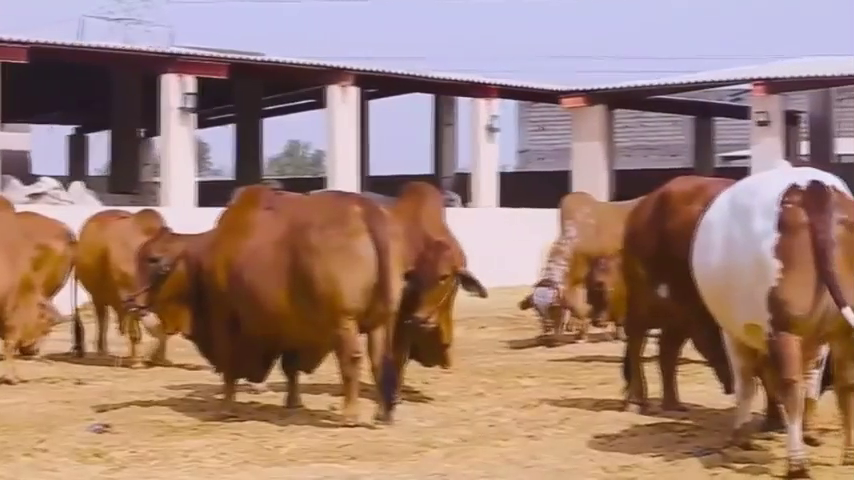bo: (122, 182, 406, 431), (673, 157, 846, 472), (329, 170, 496, 376), (605, 162, 729, 423), (67, 180, 177, 373), (511, 183, 624, 347), (4, 194, 68, 397), (578, 250, 623, 326)
